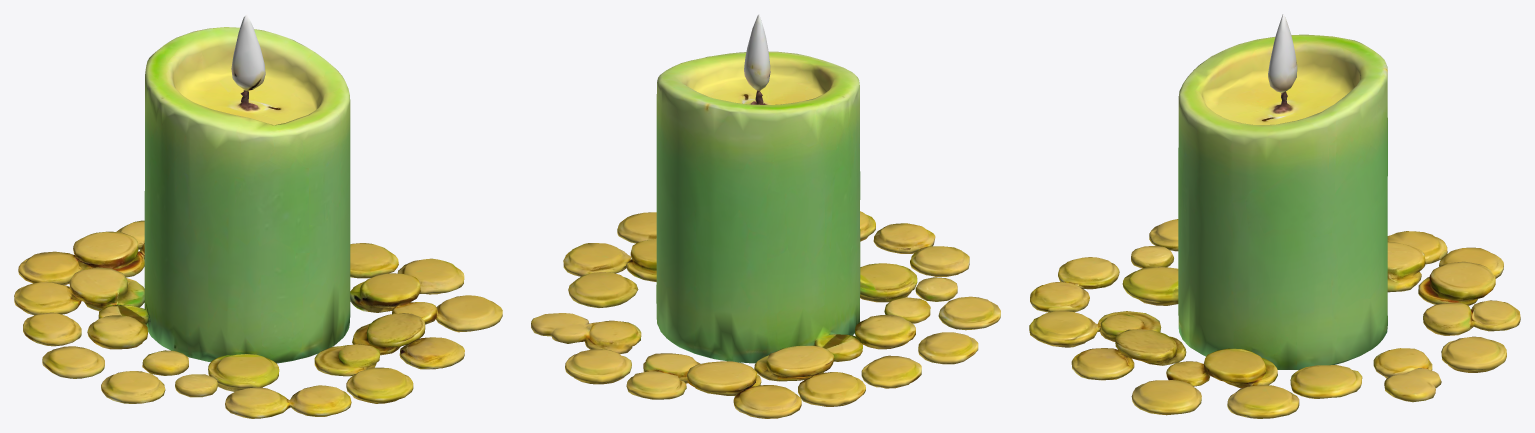
File: Meshy_AI_green_wax_candle_made_0301025842_texture.glb
3 views of the same model, side by side, from view 1: azimuth 30°, elevation 25°; view 2: azimuth 150°, elevation 25°; view 3: azimuth 270°, elevation 25° (orthographic). The views are drawn at different scales.
Parts seen in each view (by area): view 1: Mesh_0.002; view 2: Mesh_0.002; view 3: Mesh_0.002.
Part boxes in pixels (x1=…): Mesh_0.002: x1=14, y1=14, x2=502, y2=418; Mesh_0.002: x1=531, y1=14, x2=1000, y2=418; Mesh_0.002: x1=1029, y1=14, x2=1520, y2=418.
Bounding box in the file's own units: 1.37 × 1 × 1.41.
Materials: 1 (1 with a texture image).
